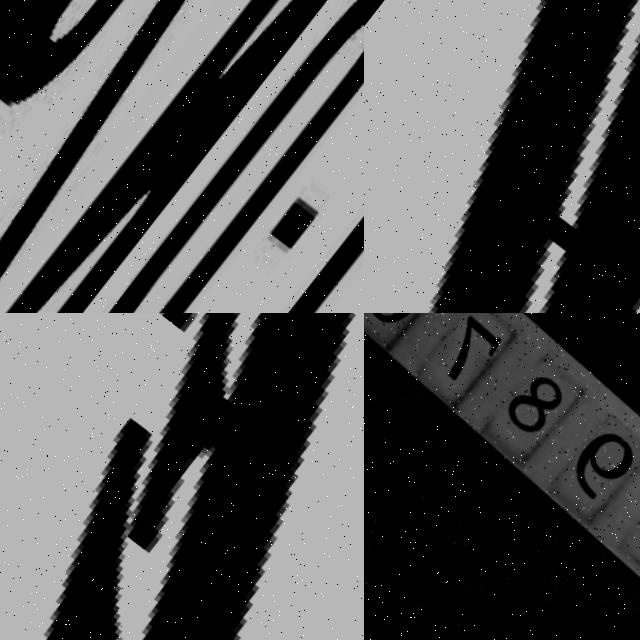0: (51, 0, 364, 313), (364, 313, 453, 350)
7: (0, 0, 323, 313), (417, 313, 526, 410)
8: (490, 352, 593, 461)
9: (0, 0, 260, 299), (550, 405, 640, 525)
A: (202, 69, 364, 313)
E: (47, 313, 350, 640)
H: (364, 0, 640, 313)
N: (0, 0, 364, 313)
T: (145, 29, 364, 313)
